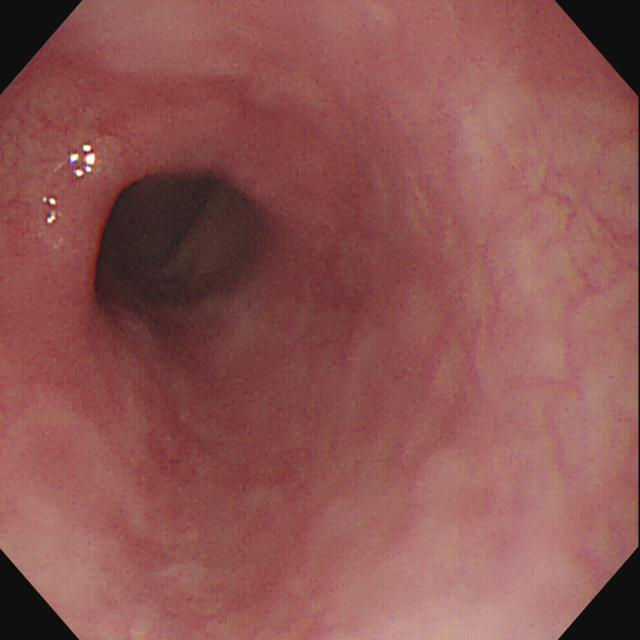A: (143, 381, 223, 484)
E: (94, 165, 249, 320)
U: (71, 144, 96, 179), (44, 196, 60, 227)
